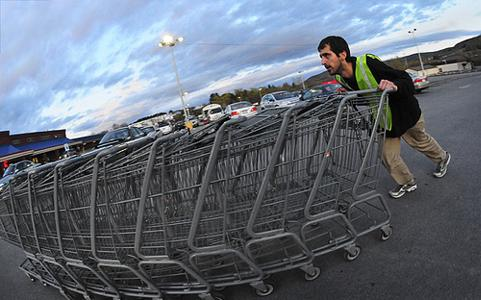person: (319, 36, 453, 199)
